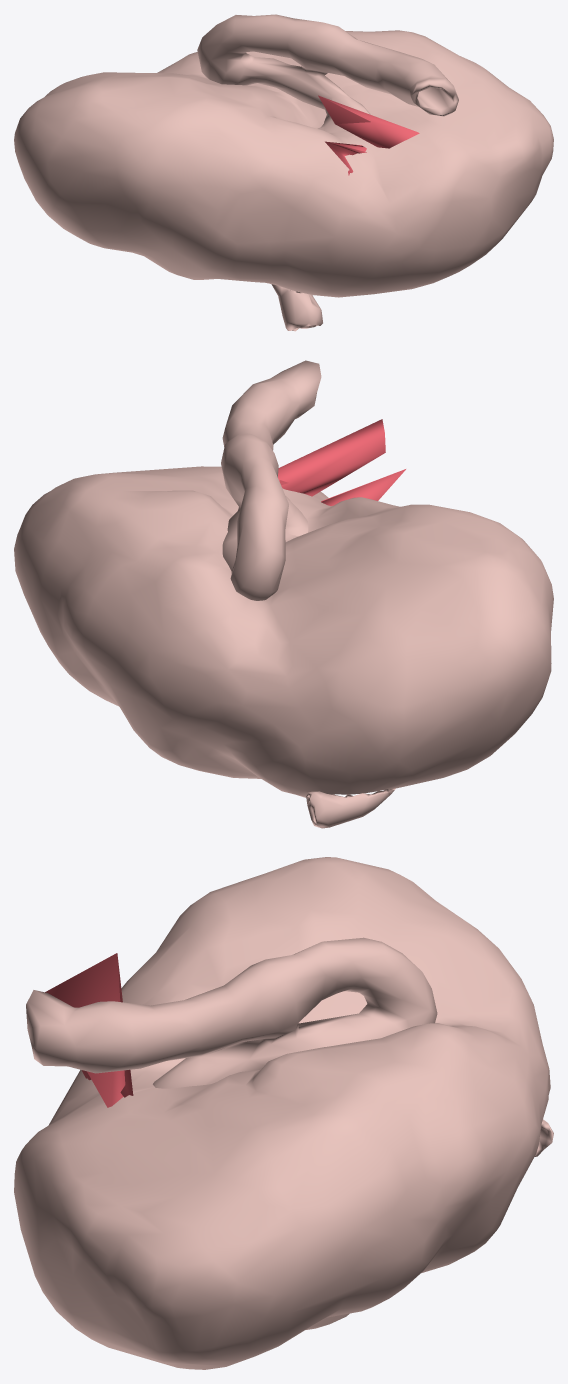
Rendered from nih_m_lymph_node-20.glb.
The picture shows the model from 3 angles, top to bottom: view 1: azimuth 30°, elevation 25°; view 2: azimuth 150°, elevation 25°; view 3: azimuth 270°, elevation 25°; orthographic projection. The views are drawn at different scales.
Visible parts, largest first — view 1: Yao_capsule_of_lymph_node, Yao_efferent_lymph_node, Yao_blood_vasculature, Yao_afferent_lymphatic_vessel; view 2: Yao_capsule_of_lymph_node, Yao_efferent_lymph_node, Yao_blood_vasculature, Yao_afferent_lymphatic_vessel; view 3: Yao_capsule_of_lymph_node, Yao_efferent_lymph_node, Yao_blood_vasculature.
Part boxes in pixels (x1=…): Yao_capsule_of_lymph_node: x1=14, y1=30, x2=553, y2=297; Yao_efferent_lymph_node: x1=197, y1=14, x2=458, y2=132; Yao_blood_vasculature: x1=318, y1=95, x2=419, y2=175; Yao_afferent_lymphatic_vessel: x1=271, y1=284, x2=322, y2=331; Yao_capsule_of_lymph_node: x1=14, y1=466, x2=553, y2=797; Yao_efferent_lymph_node: x1=221, y1=360, x2=321, y2=600; Yao_blood_vasculature: x1=278, y1=419, x2=405, y2=505; Yao_afferent_lymphatic_vessel: x1=306, y1=788, x2=395, y2=828; Yao_capsule_of_lymph_node: x1=14, y1=857, x2=550, y2=1369; Yao_efferent_lymph_node: x1=26, y1=937, x2=437, y2=1088; Yao_blood_vasculature: x1=45, y1=953, x2=133, y2=1107.
Bounding box in the file's own units: 0.0183 × 0.0107 × 0.013.
